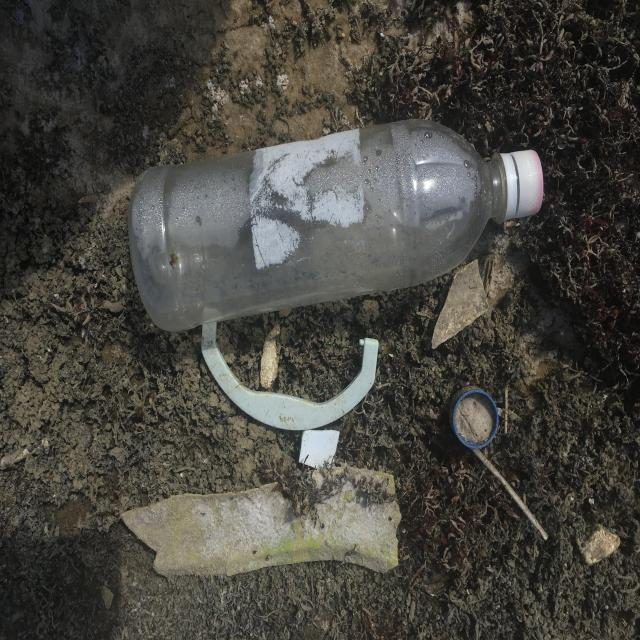litter: (127, 126, 545, 330)
